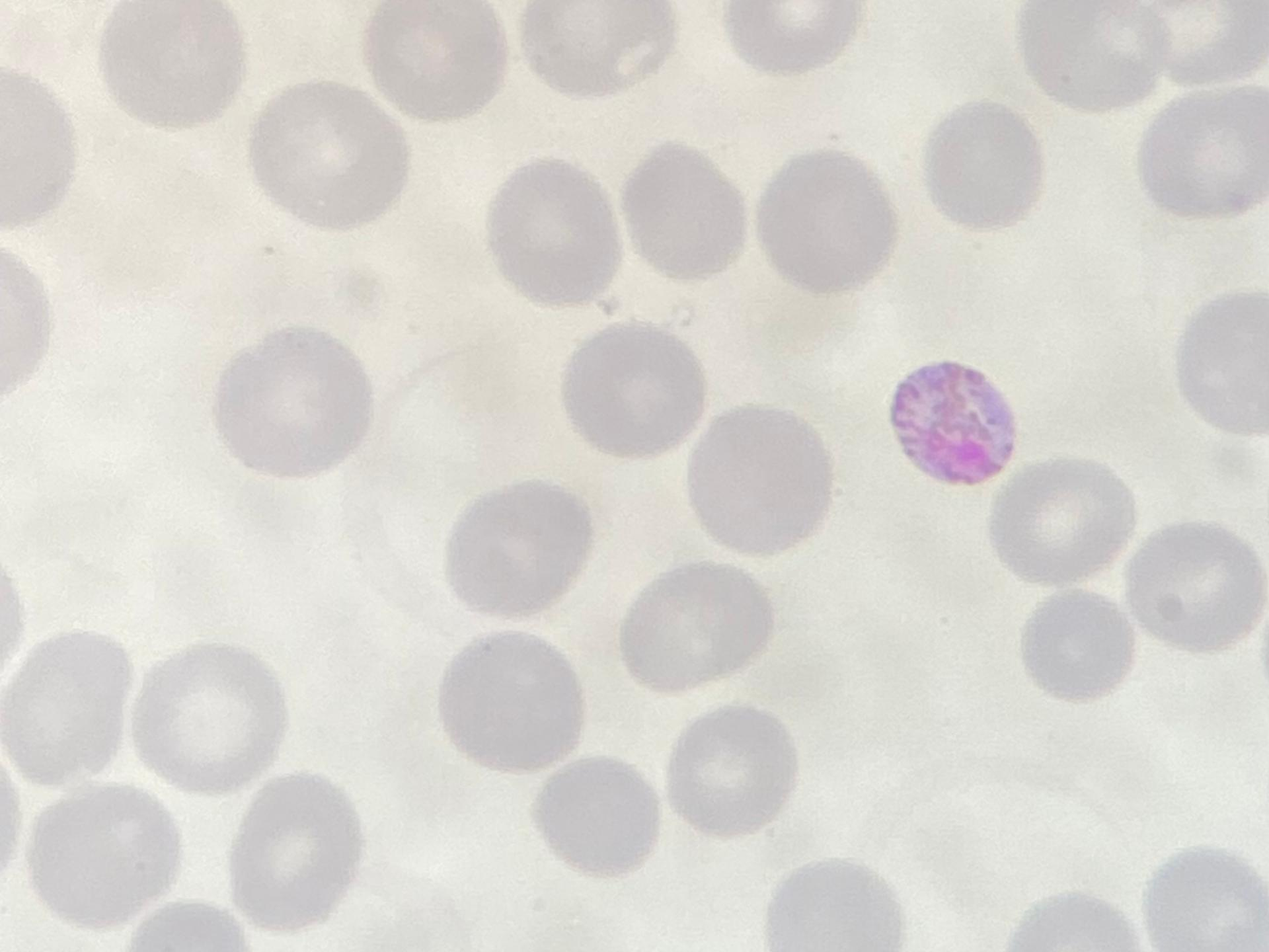Infected: (890, 356, 1018, 490)
Uninfected: (123, 642, 286, 803), (29, 772, 185, 931), (216, 327, 366, 479), (251, 80, 404, 223), (436, 477, 590, 618), (229, 770, 357, 939), (0, 627, 132, 789), (441, 631, 590, 773), (485, 155, 617, 315), (694, 404, 827, 554), (621, 560, 776, 687), (758, 155, 900, 287), (566, 322, 704, 457), (101, 0, 247, 127), (994, 455, 1131, 586), (1128, 525, 1269, 651), (665, 702, 796, 837), (1137, 89, 1269, 221), (921, 98, 1046, 227), (628, 146, 743, 283), (370, 1, 501, 121), (533, 761, 661, 881), (1020, 0, 1157, 110), (1174, 294, 1269, 445), (1020, 589, 1135, 706), (1146, 843, 1262, 952), (764, 860, 893, 952)
